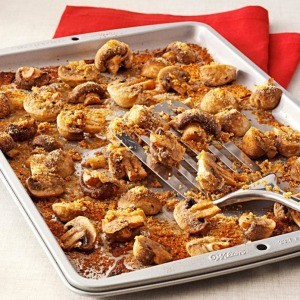mushroom_brain food: (34, 87, 216, 192)
